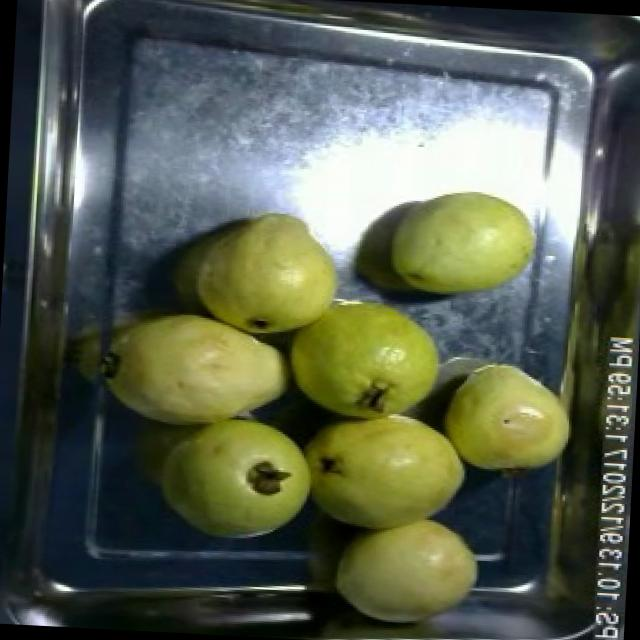Fruit: (95, 298, 308, 449), (165, 196, 356, 354), (266, 284, 460, 424), (152, 408, 330, 554), (292, 413, 476, 544), (320, 503, 491, 640), (371, 177, 551, 306), (431, 350, 582, 486)
